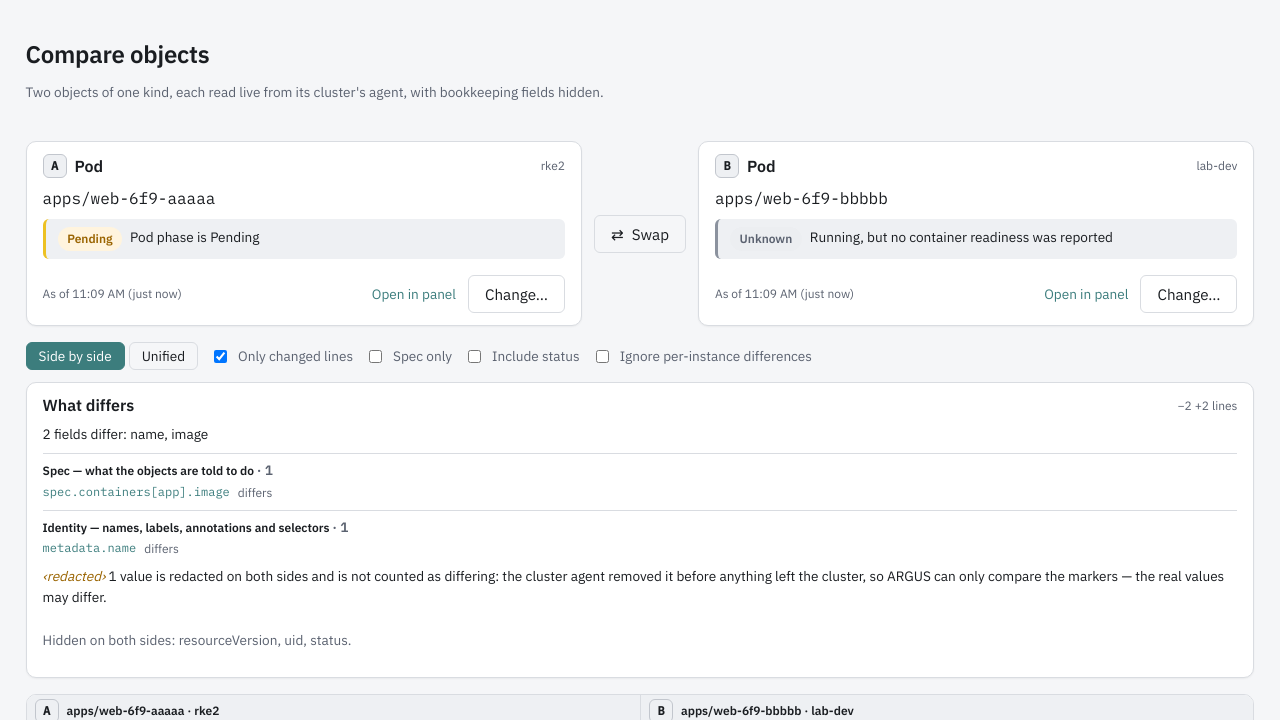
ComparePage › swaps A and B
The image size is (1280, 720).
Expected: the element "What differs" is shown, [26,382,1254,678]
Click the button with aria-label "Swap A and B": (640, 234) [594,215,686,253]
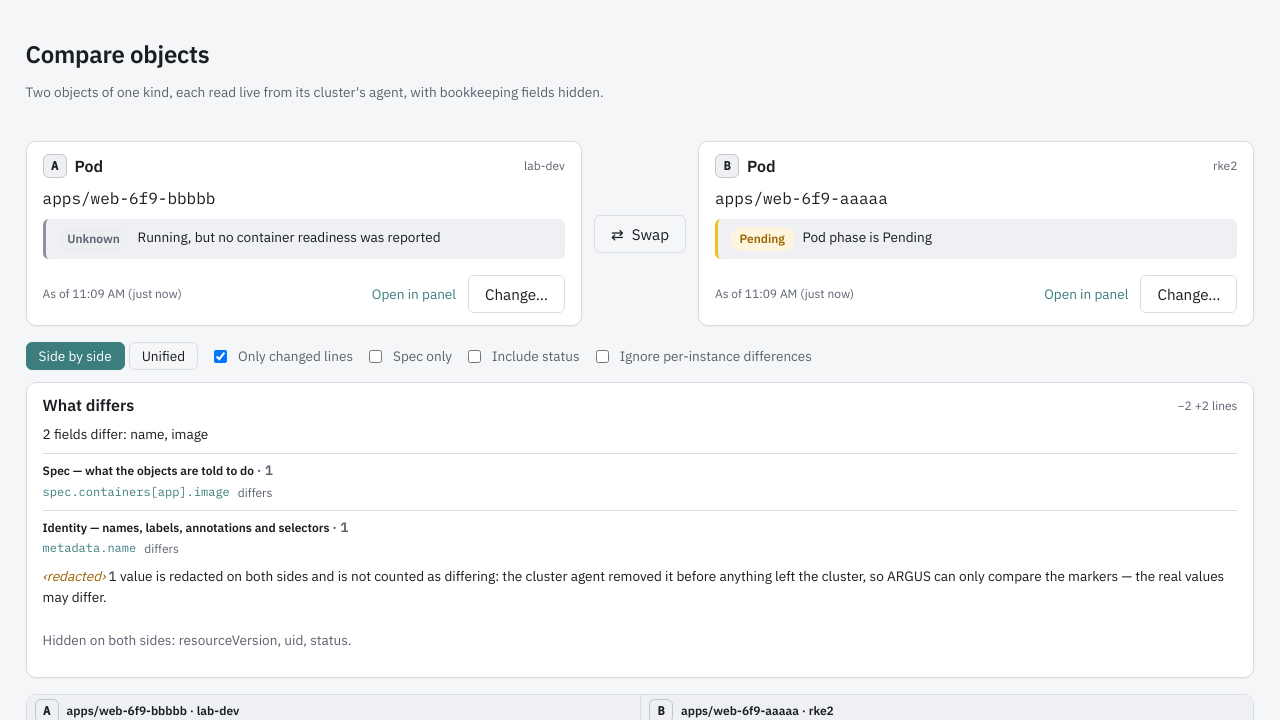
Now the text "apps/web-6f9-bbbbb" is shown, box [43,188,215,208]
